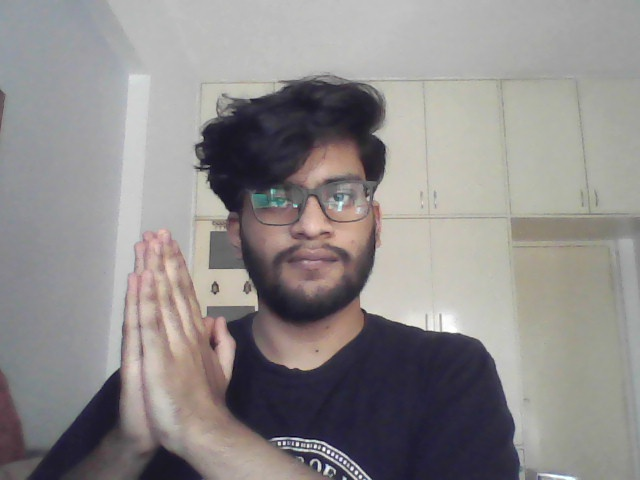Namaskara: (113, 226, 239, 454)
